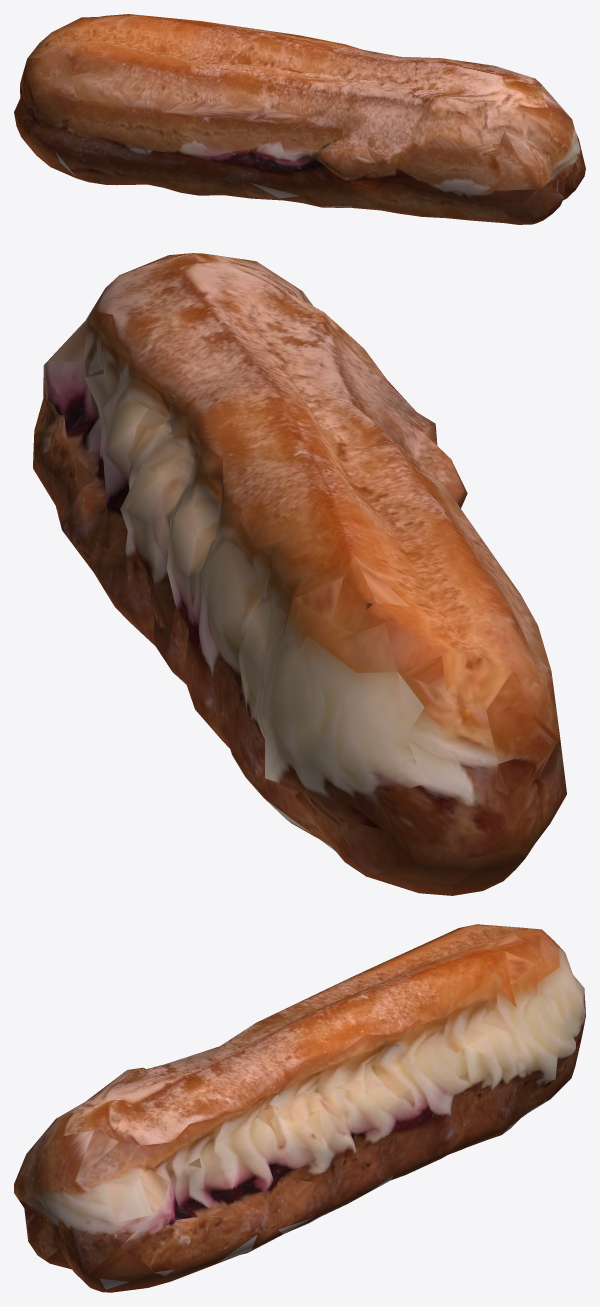
The model's file is eclaire_1050.obj.
3 views of the same model, one above another, from view 1: azimuth 30°, elevation 25°; view 2: azimuth 150°, elevation 25°; view 3: azimuth 270°, elevation 25° (orthographic). The views are drawn at different scales.
Size of the model in its own units: 93.9 by 31.52 by 91.23.
Materials: 1 (1 with a texture image).
